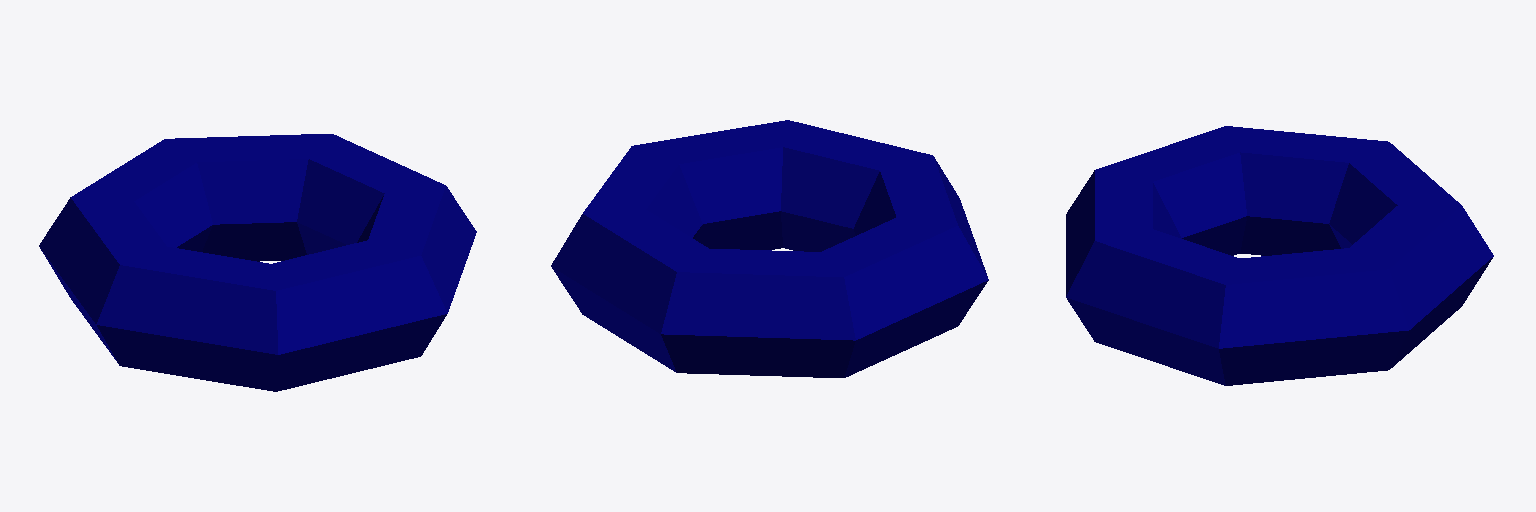
File: torusLOW.obj
The picture shows the model from 3 angles: view 1: azimuth 30°, elevation 25°; view 2: azimuth 150°, elevation 25°; view 3: azimuth 270°, elevation 25°; orthographic projection.
Visible parts, largest first — view 1: Torus001; view 2: Torus001; view 3: Torus001.
Boxes of the visible parts, x1,y1,x2,y2 form: Torus001: [39, 134, 476, 391]; Torus001: [551, 120, 988, 377]; Torus001: [1066, 126, 1493, 385].
Bounding box in the file's own units: 10.75 × 2.73 × 10.48.